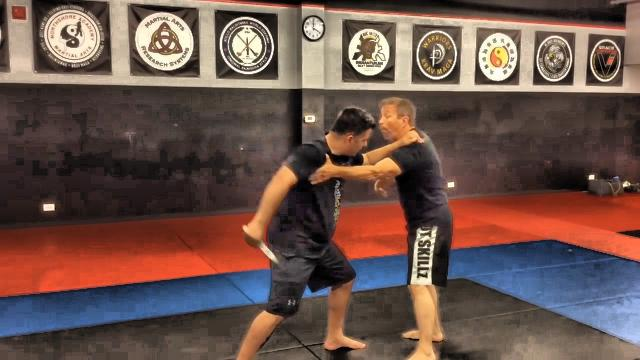knife: (238, 222, 280, 266)
